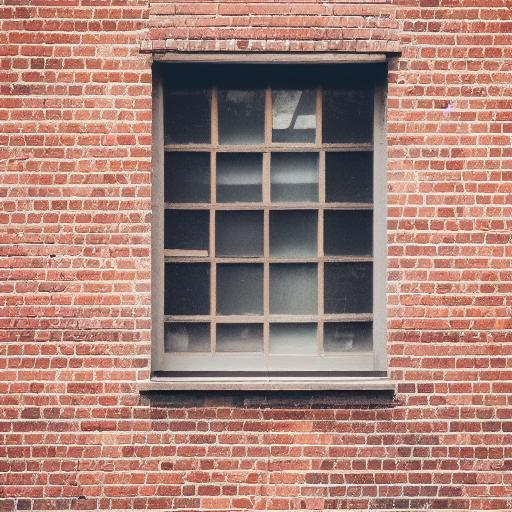Window: (139, 50, 401, 393)
